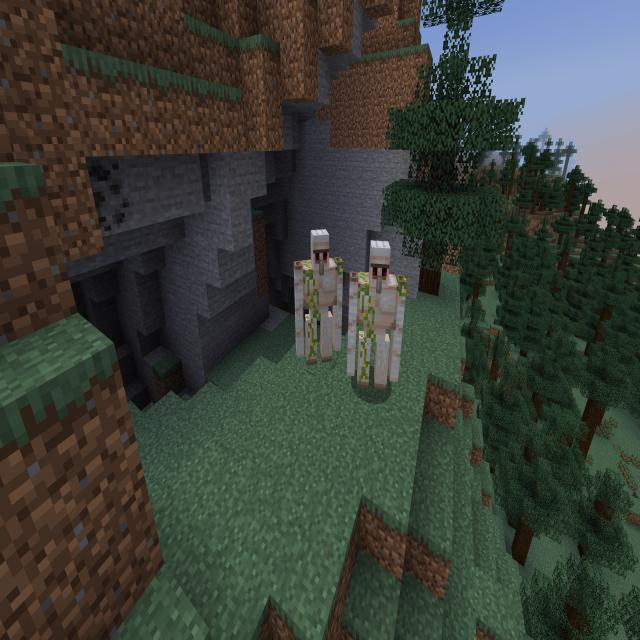Iron Golem: (346, 237, 408, 395), (291, 225, 345, 367)
